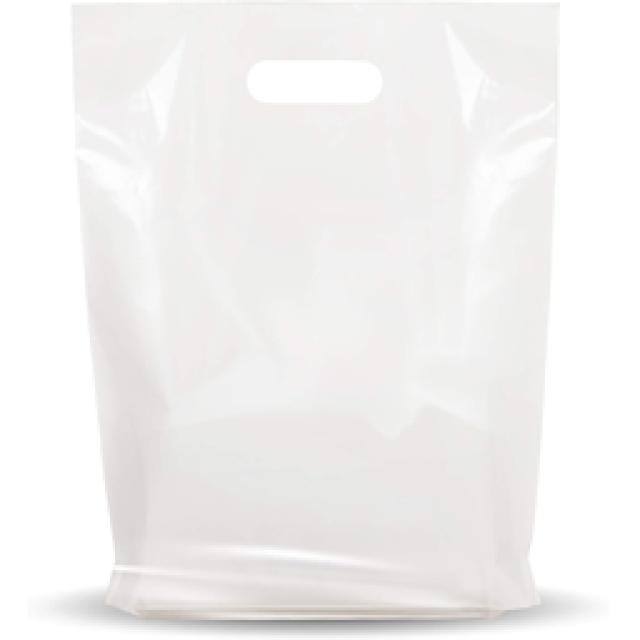plastic: (72, 0, 555, 618)
